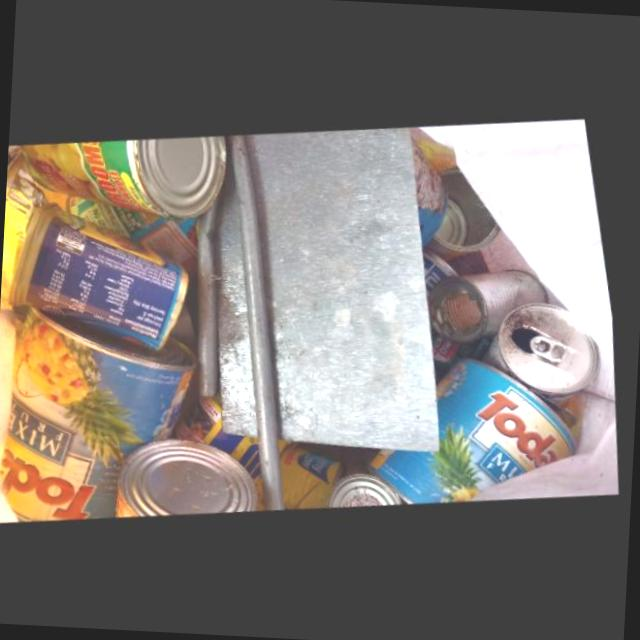nhom: (0, 308, 202, 522), (373, 358, 580, 503), (16, 204, 192, 351), (24, 136, 232, 220), (117, 439, 261, 517), (499, 304, 606, 407), (75, 197, 207, 276), (439, 270, 559, 348), (430, 166, 508, 260), (6, 145, 56, 237), (419, 127, 456, 247), (330, 474, 409, 507)
